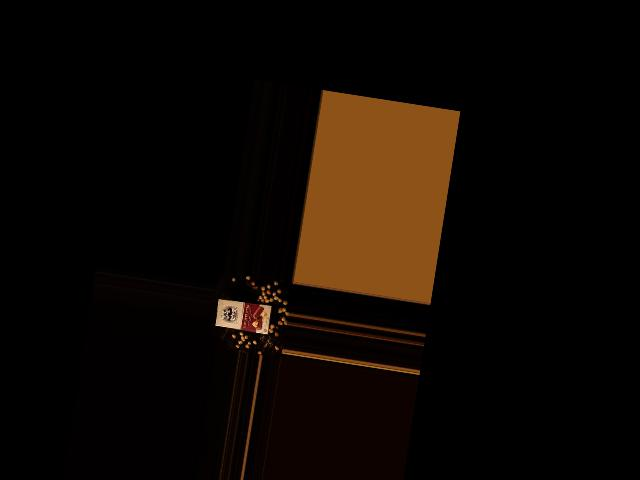chocolate: (213, 294, 274, 336)
